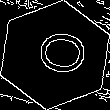O_W: (25, 30, 85, 80)
